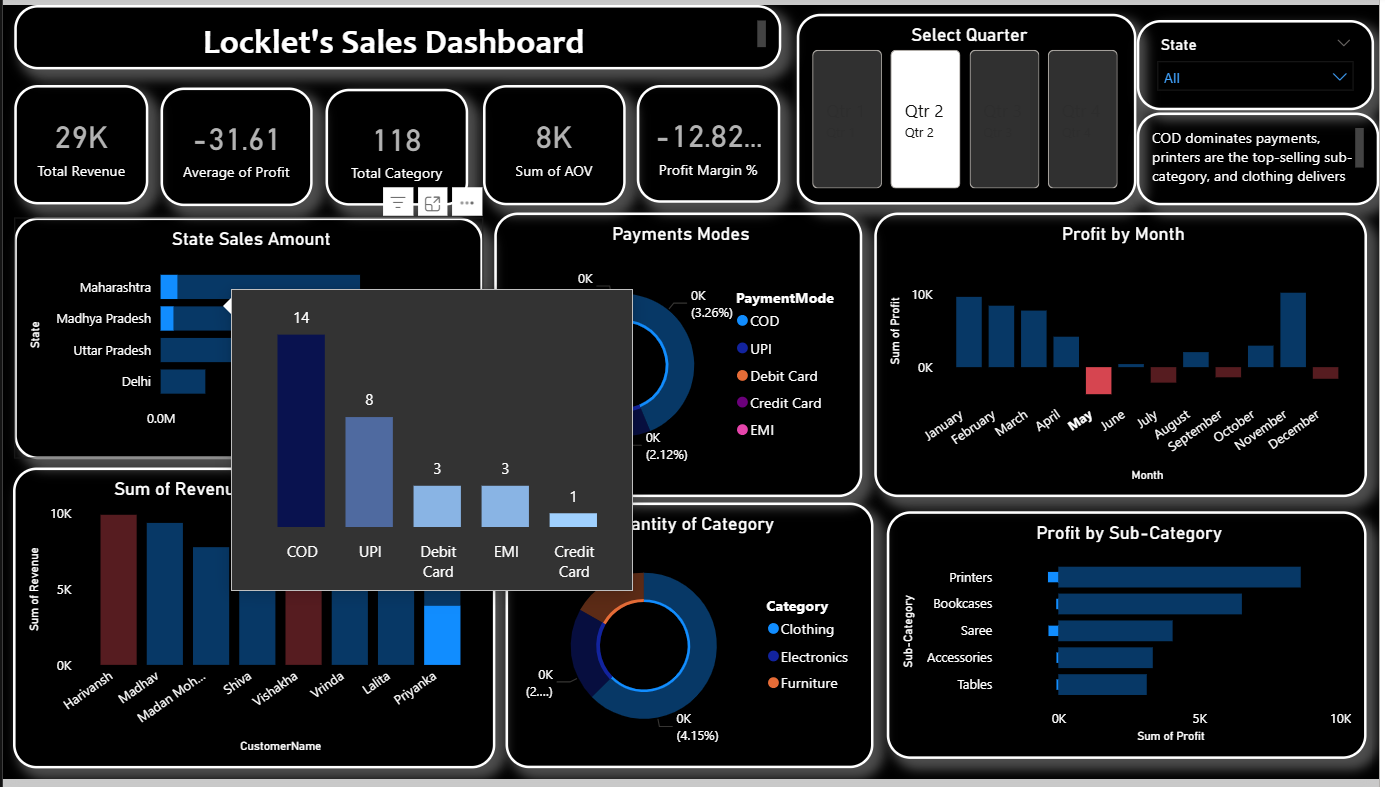

The page's visual inventory and layout, read from the dashboard file:
{"tool":"powerbi","page":{"name":"Page 1","canvas":[1280,720],"ordinal":0},"visuals":[{"type":"textbox","box":[10,0,713.8,60],"z":0},{"type":"donutChart","title":"Quantity of Category","fields":{"Category":["Details.Category"],"Y":["Sum(Details.Quantity)"]},"box":[467.5,462.5,342.5,247.5],"z":1000},{"type":"clusteredColumnChart","title":"Profit by Month","fields":{"Y":["Sum(Details.Profit)"],"Category":["Orders.Order Date.Variation.Date Hierarchy.Month"]},"box":[810,192.5,458.8,265],"z":2000},{"type":"barChart","title":"Profit by Sub-Category","fields":{"Category":["Details.Sub-Category"],"Y":["Sum(Details.Profit)"]},"box":[822.5,471.2,446.2,230],"z":3000},{"type":"donutChart","title":"Quantity of Category","fields":{"Y":["Sum(Details.Quantity)"],"Category":["Details.PaymentMode"]},"box":[457.5,192.5,342.5,265],"z":4000},{"type":"card","fields":{"Values":["Sum(Details.Amount)"]},"box":[10,75,125,111.2],"z":5000},{"type":"card","fields":{"Values":["Avg(Details.Profit)"]},"box":[146.2,76.2,141.2,110],"z":6000},{"type":"card","fields":{"Values":["CountNonNull(Details.Category)"]},"box":[300,77.5,132.5,108.8],"z":7000},{"type":"card","fields":{"Values":["Sum(Details.AOV)"]},"box":[446.2,75,128.8,111.2],"z":8000},{"type":"barChart","title":"State Sales Amount","fields":{"Category":["Orders.State"],"Y":["Sum(Details.Amount)"]},"box":[10,197.5,436.2,225],"z":9000},{"type":"columnChart","fields":{"Category":["Orders.CustomerName"],"Y":["Sum(Details.Amount)"]},"box":[8.8,430,448.8,280],"z":10000},{"type":"advancedSlicerVisual","title":"Select Quarter","fields":{"Values":["Orders.Order Date.Variation.Date Hierarchy.Quarter"],"Label":["Min(Orders.Order Date.Variation.Date Hierarchy.Quarter)"]},"box":[738.5,8.4,301.4,177.7],"z":11000},{"type":"slicer","fields":{"Values":["Orders.State"]},"box":[1045.4,51.2,230.2,93],"z":12000},{"type":"card","fields":{"Values":["Details.Profit Margin %"]},"box":[589.6,74.4,133.3,109.3],"z":13000}]}

Visuals, with their boxes in screenshot pixels (x1, y1, x2, y2), scaled from the page's 1280x720 canvas onto the 1385x787 screenshot:
textbox: 11 0 783 66
"Quantity of Category" donutChart: 506 506 876 776
"Profit by Month" clusteredColumnChart: 876 210 1373 500
"Profit by Sub-Category" barChart: 890 515 1373 766
"Quantity of Category" donutChart: 495 210 866 500
card - Sum(Details.Amount): 11 82 146 204
card - Avg(Details.Profit): 158 83 311 204
card - CountNonNull(Details.Category): 325 85 468 204
card - Sum(Details.AOV): 483 82 622 204
"State Sales Amount" barChart: 11 216 483 462
columnChart - Orders.CustomerName x Sum(Details.Amount): 10 470 495 776
"Select Quarter" advancedSlicerVisual: 799 9 1125 203
slicer - Orders.State: 1131 56 1380 158
card - Details.Profit Margin %: 638 81 782 201
